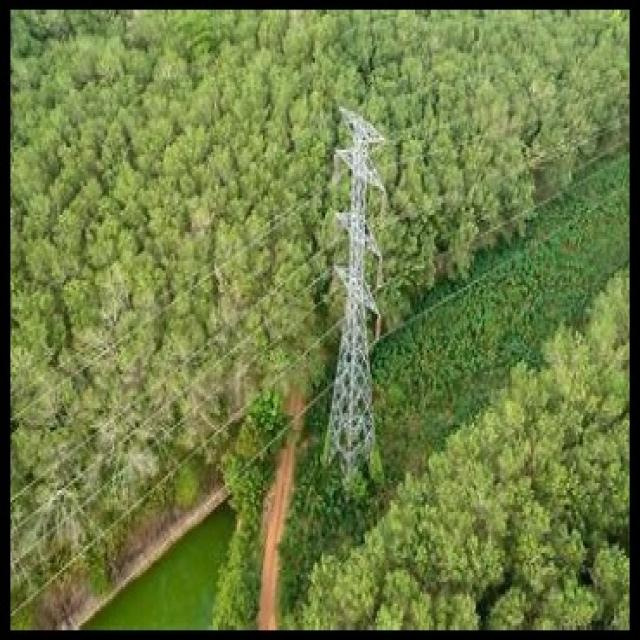utility poles: (291, 85, 419, 506)
